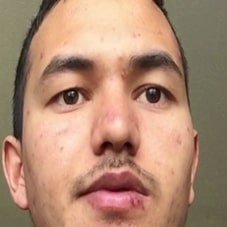awake: (37, 43, 190, 227)
